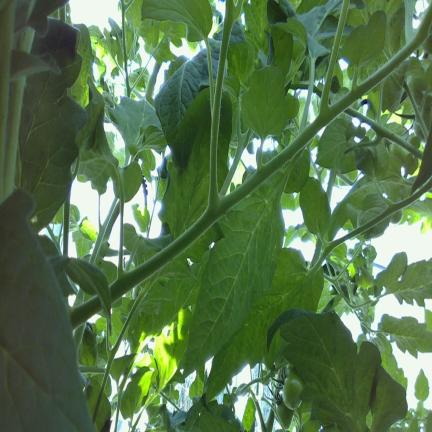tomato: (282, 368, 304, 409), (276, 395, 294, 428)
